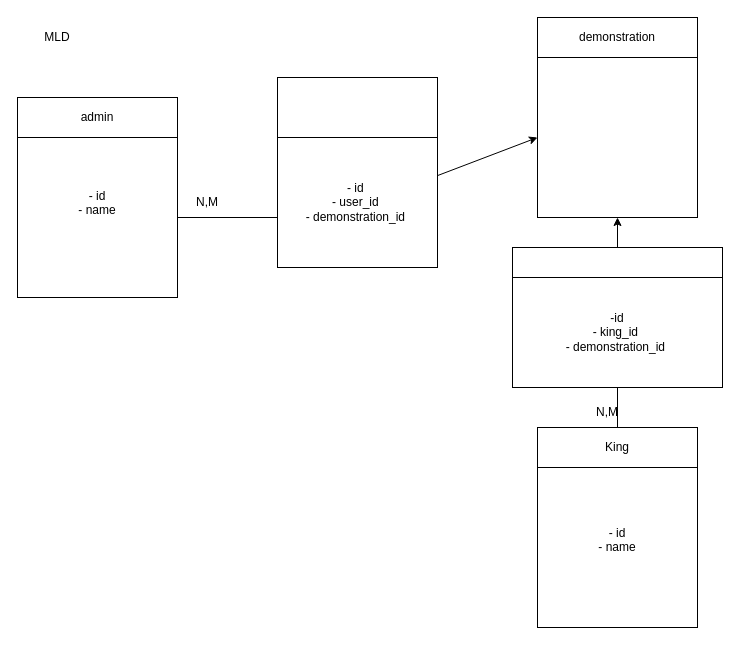
Image size: 740x645. Some labels were removed from this diagram. Each missing label, with the box of its shape:
- id - img - date - description: (536, 56, 698, 218)
organizes: (276, 76, 438, 138)
participate: (512, 246, 722, 278)
